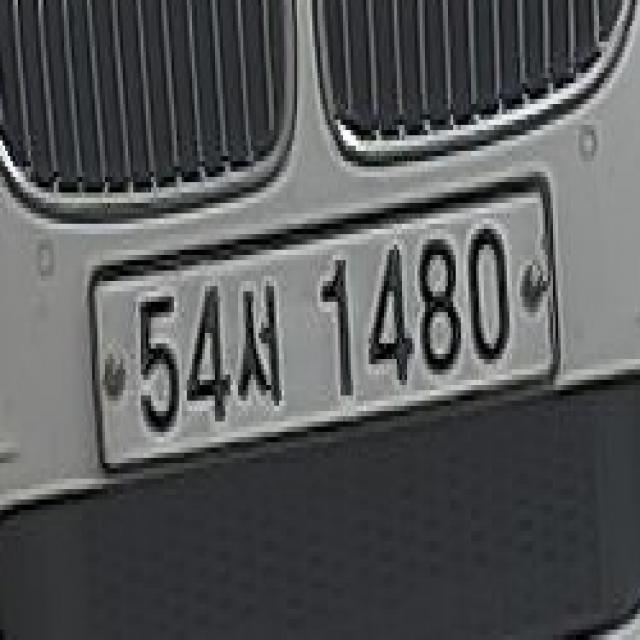0: (466, 213, 525, 380)
1: (317, 229, 363, 411)
4: (184, 286, 233, 437), (368, 234, 414, 390)
5: (138, 276, 184, 437)
8: (415, 224, 461, 385)
license_plate: (84, 166, 560, 494)
seo: (236, 255, 284, 416)
